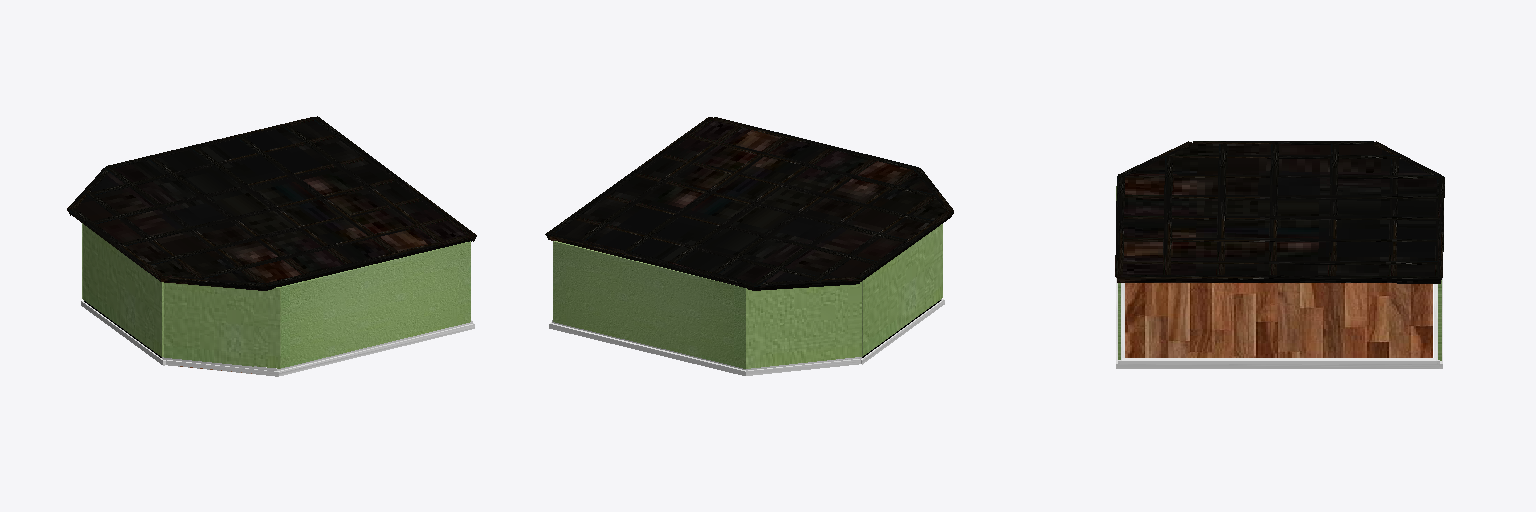
3 renders of one model, left to right at view 1: azimuth 30°, elevation 25°; view 2: azimuth 150°, elevation 25°; view 3: azimuth 270°, elevation 25°, orthographic.
Visible parts, largest first — view 1: Casa1:pasted__pasted__pasted__pCube5pasted__pasted__group25paste, Casa1:polySurface29, Casa1:polySurface35, Casa1:polySurface21polySurface31, Casa1:polySurface27, Casa1:polySurface28, Casa1:polySurface31, Casa1:polySurface25, Casa1:group2_pasted__pPrism1, Casa1:polySurface30, Casa1:polySurface39, Casa1:polySurface23 (+9 smaller); view 2: Casa1:pasted__pasted__pasted__pCube5pasted__pasted__group25paste, Casa1:polySurface29, Casa1:polySurface21polySurface24, Casa1:polySurface27, Casa1:polySurface28, Casa1:polySurface25, Casa1:polySurface31, Casa1:polySurface30, Casa1:group2_pasted__pPrism1, Casa1:polySurface23, Casa1:polySurface39, Casa1:polySurface22 (+8 smaller); view 3: Casa1:polySurface29, Casa1:pCube4, Casa1:polySurface32, Casa1:pasted__polySurface32pasted__polySurface21group22, Casa1:polySurface21polySurface30, Casa1:polySurface31, Casa1:polySurface28, Casa1:polySurface27, Casa1:group2_pasted__pPrism1, Casa1:polySurface25, Casa1:polySurface39, Casa1:polySurface30 (+7 smaller).
Boxes of the visible parts, box(x1,y1,x2,y2) form: Casa1:pasted__pasted__pasted__pCube5pasted__pasted__group25paste: box(82, 223, 470, 368); Casa1:polySurface29: box(76, 117, 471, 282); Casa1:polySurface35: box(264, 235, 473, 290); Casa1:polySurface21polySurface31: box(278, 324, 474, 375); Casa1:polySurface27: box(282, 124, 443, 241); Casa1:polySurface28: box(236, 135, 397, 252); Casa1:polySurface31: box(190, 146, 351, 263); Casa1:polySurface25: box(147, 198, 420, 264); Casa1:group2_pasted__pPrism1: box(147, 157, 308, 273); Casa1:polySurface30: box(122, 179, 395, 245); Casa1:polySurface39: box(104, 167, 265, 282); Casa1:polySurface23: box(201, 218, 447, 278); Casa1:pasted__pasted__pasted__pCube5pasted__pasted__group25paste: box(553, 224, 942, 368); Casa1:polySurface29: box(549, 117, 945, 286); Casa1:polySurface21polySurface24: box(549, 322, 745, 375); Casa1:polySurface27: box(579, 126, 741, 240); Casa1:polySurface28: box(625, 138, 788, 251); Casa1:polySurface25: box(663, 154, 933, 223); Casa1:polySurface31: box(670, 149, 833, 262); Casa1:polySurface30: box(636, 173, 906, 242); Casa1:group2_pasted__pPrism1: box(713, 159, 875, 273); Casa1:polySurface23: box(689, 135, 934, 197); Casa1:polySurface39: box(754, 170, 915, 290); Casa1:polySurface22: box(606, 195, 876, 263); Casa1:polySurface29: box(1120, 144, 1441, 277); Casa1:pCube4: box(1125, 283, 1432, 357); Casa1:polySurface32: box(1117, 276, 1440, 283); Casa1:pasted__polySurface32pasted__polySurface21group22: box(1120, 358, 1436, 363); Casa1:polySurface21polySurface30: box(1117, 364, 1438, 368); Casa1:polySurface31: box(1124, 216, 1437, 219); Casa1:polySurface28: box(1124, 238, 1437, 241); Casa1:polySurface27: box(1123, 261, 1437, 264); Casa1:group2_pasted__pPrism1: box(1125, 195, 1438, 198); Casa1:polySurface25: box(1216, 144, 1226, 274); Casa1:polySurface39: box(1125, 174, 1438, 178); Casa1:polySurface30: box(1269, 144, 1278, 274).
Size of the model in its own units: 24.24 by 7.74 by 24.31.
10 materials, 4 textured.